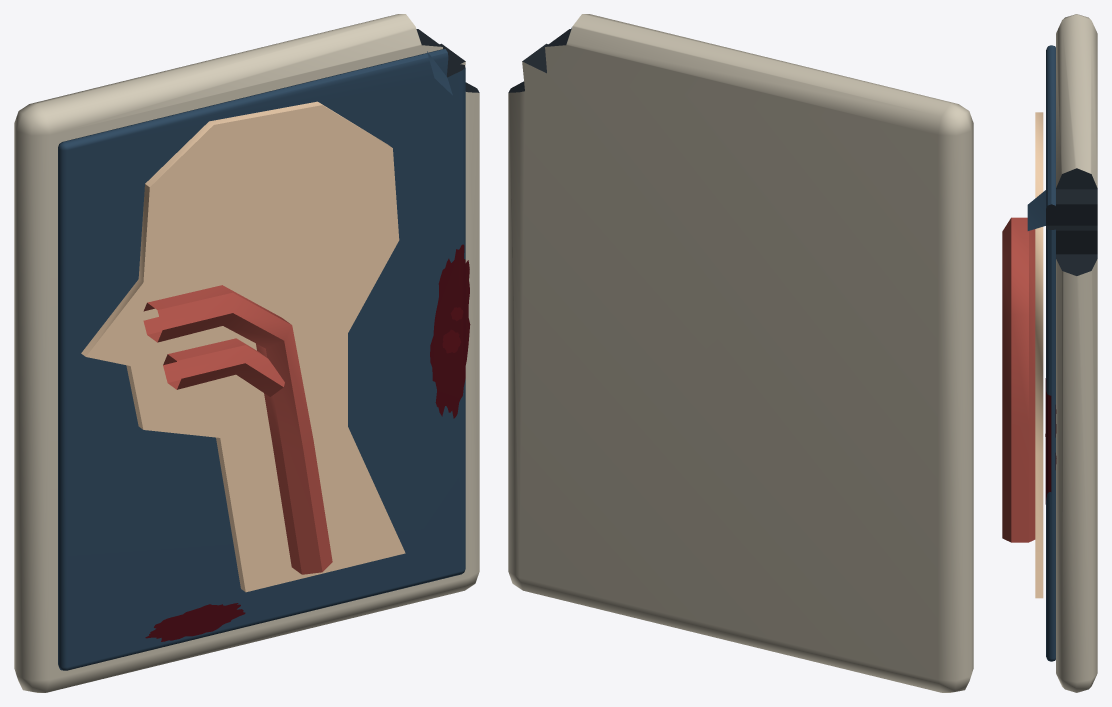
File: clinical_art_airway.glb
The picture shows the model from 3 angles, left to right: view 1: azimuth 30°, elevation 25°; view 2: azimuth 150°, elevation 25°; view 3: azimuth 270°, elevation 25°; orthographic projection. The views are drawn at different scales.
Visible parts, largest first — view 1: clinical_art_airway_Outbreak_Static; view 2: clinical_art_airway_Outbreak_Static; view 3: clinical_art_airway_Outbreak_Static.
Part boxes in pixels (<box>): clinical_art_airway_Outbreak_Static: <box>14,14,479,692</box>; clinical_art_airway_Outbreak_Static: <box>508,14,973,692</box>; clinical_art_airway_Outbreak_Static: <box>1002,14,1097,692</box>.
Bounding box in the file's own units: 0.72 × 0.88 × 0.151.
